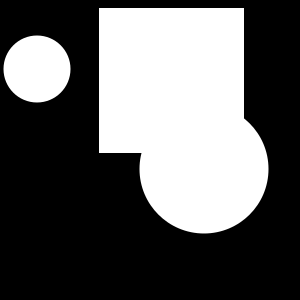circle: (99, 8, 244, 153)
rectangle: (140, 105, 268, 234), (4, 36, 70, 102)
triangle: (160, 57, 250, 147)
